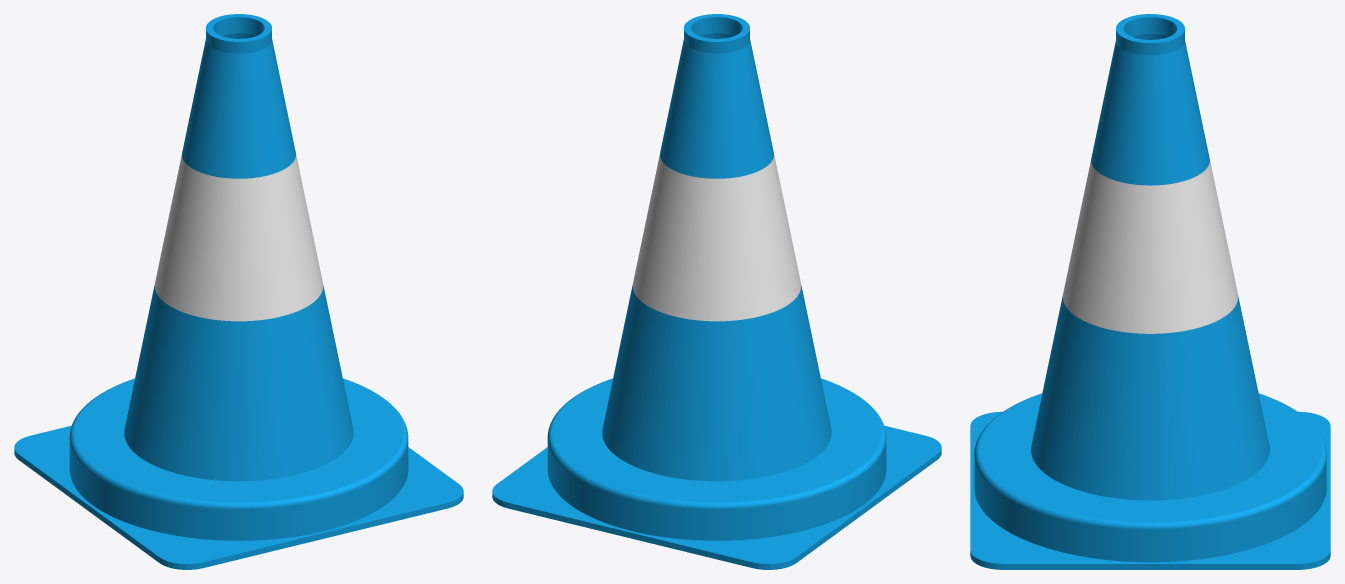
File: class_0.dae
3 renders of one model, left to right at view 1: azimuth 30°, elevation 25°; view 2: azimuth 150°, elevation 25°; view 3: azimuth 270°, elevation 25°, orthographic. The views are drawn at different scales.
Visible parts, largest first — view 1: Blue_Cone; view 2: Blue_Cone; view 3: Blue_Cone.
Boxes of the visible parts, bbox=[...] form: Blue_Cone: bbox=[14, 14, 463, 569]; Blue_Cone: bbox=[492, 14, 941, 569]; Blue_Cone: bbox=[970, 14, 1330, 569].
Size of the model in its own units: 0.228 by 0.228 by 0.325.
